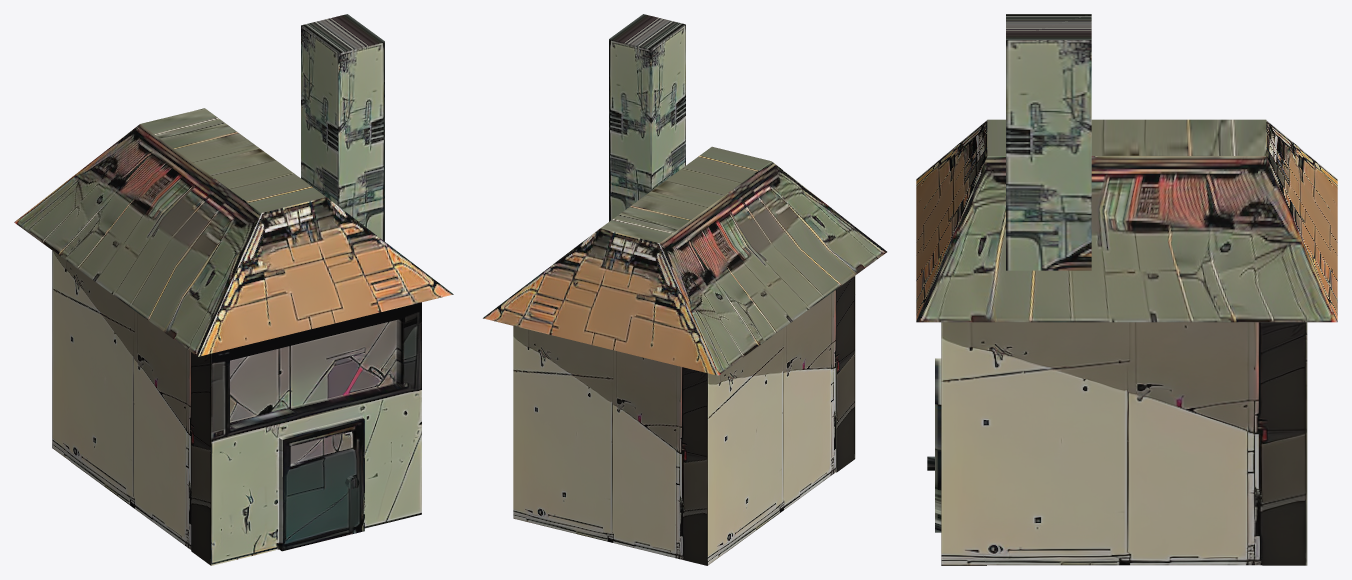
The model's file is house.fbx.
The picture shows the model from 3 angles, left to right: view 1: azimuth 30°, elevation 25°; view 2: azimuth 150°, elevation 25°; view 3: azimuth 270°, elevation 25°; orthographic projection. The views are drawn at different scales.
Visible parts, largest first — view 1: Roof, Door, LeftWall, Chimney, Back; view 2: Roof, Back, LeftWall, Chimney, Door; view 3: Roof, RightWall, Chimney, Door, Back.
Boxes of the visible parts, x1,y1,x2,y2 form: Roof: (14, 108, 453, 356); Door: (191, 302, 421, 565); LeftWall: (70, 264, 191, 549); Chimney: (301, 14, 384, 241); Back: (52, 250, 70, 461); Roof: (483, 146, 886, 375); Back: (513, 326, 724, 565); LeftWall: (724, 290, 836, 553); Chimney: (609, 14, 685, 221); Door: (836, 276, 855, 472); Roof: (916, 119, 1337, 322); RightWall: (986, 322, 1262, 565); Chimney: (1006, 14, 1091, 270); Door: (927, 322, 986, 565); Back: (1262, 322, 1307, 565).
Size of the model in its own units: 243 by 413 by 302.
1 material, 1 textured.
